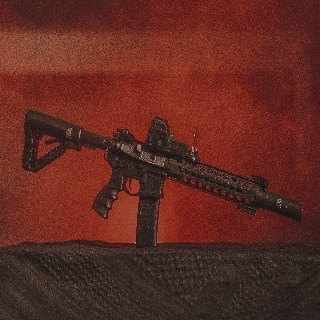rifle: (22, 106, 305, 249)
